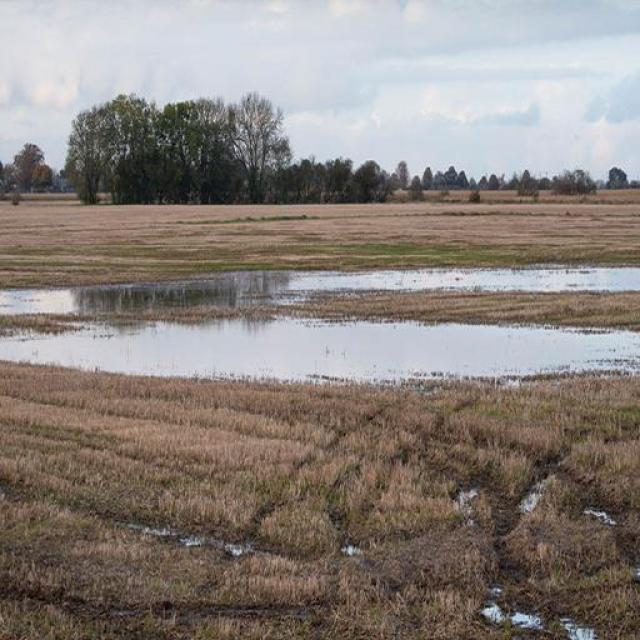puddle: (5, 284, 634, 375)
